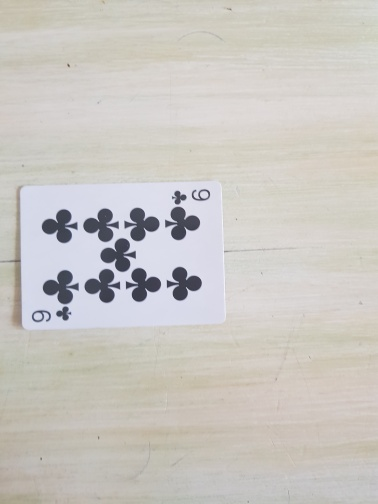nine: (18, 181, 227, 332)
